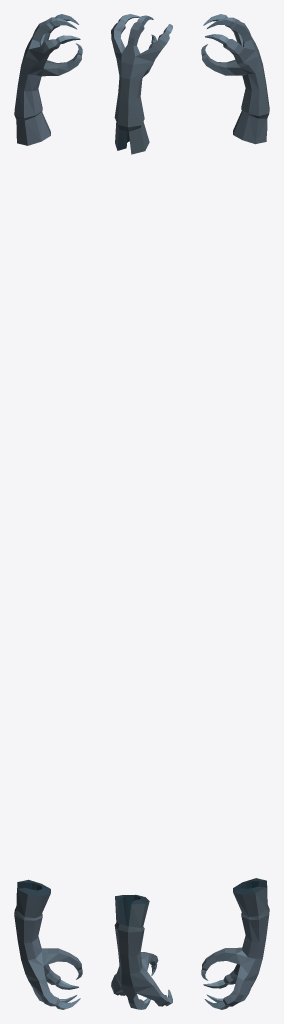
The model's file is smallBowDragonTip.glb.
3 renders of one model, left to right at view 1: azimuth 90°, elevation 25°; view 2: azimuth 150°, elevation 25°; view 3: azimuth 270°, elevation 25°, orthographic.
Visible parts, largest first — view 1: smallBowDragonTip; view 2: smallBowDragonTip; view 3: smallBowDragonTip.
Boxes of the visible parts, <box> form: smallBowDragonTip: <box>14,14,82,1009</box>; smallBowDragonTip: <box>111,14,172,1009</box>; smallBowDragonTip: <box>201,14,269,1009</box>.
Size of the model in its own units: 0.0816 by 1.37 by 0.086.
